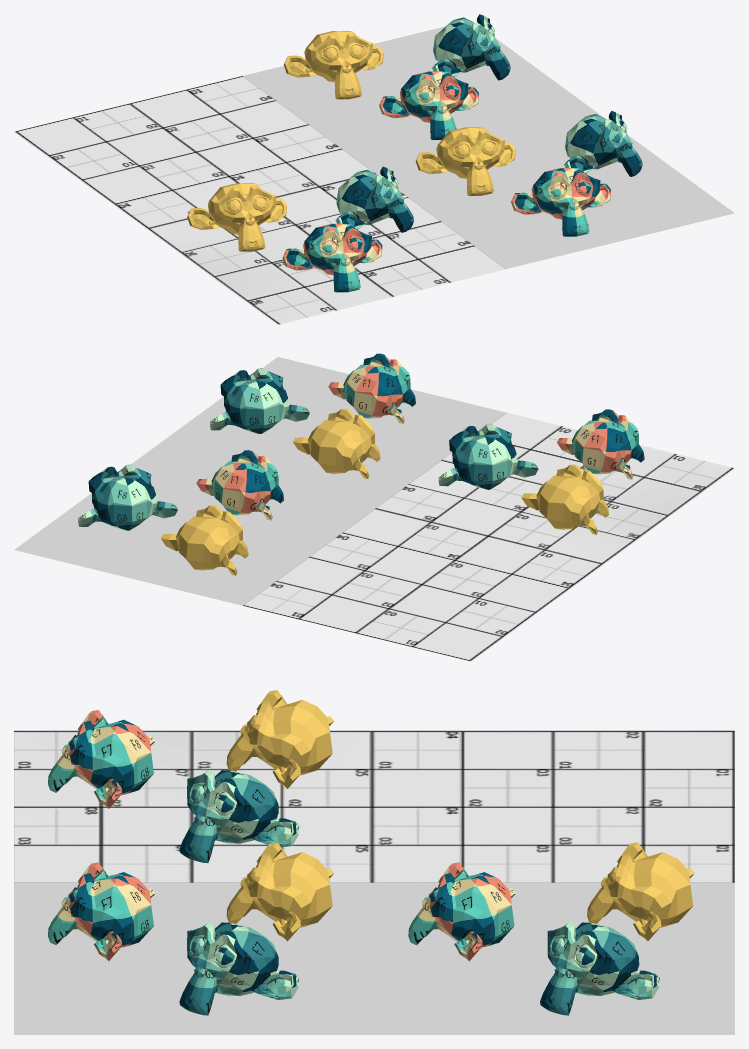
The picture shows the model from 3 angles, top to bottom: view 1: azimuth 30°, elevation 25°; view 2: azimuth 150°, elevation 25°; view 3: azimuth 270°, elevation 25°; orthographic projection. The views are drawn at different scales.
Parts seen in each view (by area): view 1: Plane, Suzanne.007, Suzanne.004, Suzanne.008, Suzanne.005, Suzanne.003, Suzanne.002, Suzanne.006, Suzanne.001, Suzanne; view 2: Plane, Suzanne.006, Suzanne.001, Suzanne, Suzanne.008, Suzanne.004, Suzanne.005, Suzanne.003, Suzanne.007, Suzanne.002; view 3: Plane, Suzanne, Suzanne.001, Suzanne.006, Suzanne.002, Suzanne.007, Suzanne.003, Suzanne.008, Suzanne.004, Suzanne.005.
Part boxes in pixels (x1=…): Plane: x1=14, y1=20, x2=734, y2=324; Suzanne.007: x1=282, y1=223, x2=382, y2=292; Suzanne.004: x1=511, y1=168, x2=610, y2=236; Suzanne.008: x1=187, y1=183, x2=286, y2=251; Suzanne.005: x1=415, y1=127, x2=515, y2=195; Suzanne.003: x1=284, y1=31, x2=383, y2=99; Suzanne.002: x1=379, y1=71, x2=478, y2=139; Suzanne.006: x1=335, y1=166, x2=413, y2=232; Suzanne.001: x1=432, y1=14, x2=510, y2=80; Suzanne: x1=564, y1=110, x2=642, y2=176; Plane: x1=14, y1=357, x2=734, y2=661; Suzanne.006: x1=438, y1=423, x2=538, y2=489; Suzanne.001: x1=78, y1=464, x2=177, y2=530; Suzanne: x1=210, y1=368, x2=309, y2=433; Suzanne.008: x1=521, y1=464, x2=608, y2=534; Suzanne.004: x1=328, y1=353, x2=415, y2=423; Suzanne.005: x1=293, y1=408, x2=380, y2=478; Suzanne.003: x1=161, y1=505, x2=248, y2=575; Suzanne.007: x1=557, y1=409, x2=644, y2=479; Suzanne.002: x1=196, y1=450, x2=283, y2=520; Plane: x1=14, y1=730, x2=734, y2=1034; Suzanne: x1=179, y1=922, x2=299, y2=1015; Suzanne.001: x1=540, y1=922, x2=659, y2=1015; Suzanne.006: x1=179, y1=769, x2=299, y2=863; Suzanne.002: x1=408, y1=862, x2=515, y2=961; Suzanne.007: x1=48, y1=710, x2=155, y2=808; Suzanne.003: x1=587, y1=842, x2=694, y2=940; Suzanne.008: x1=226, y1=690, x2=333, y2=788; Suzanne.004: x1=48, y1=862, x2=155, y2=960; Suzanne.005: x1=226, y1=842, x2=334, y2=941.
Bounding box in the file's own units: 2 × 0.2277 × 2.
6 materials, 3 textured.
